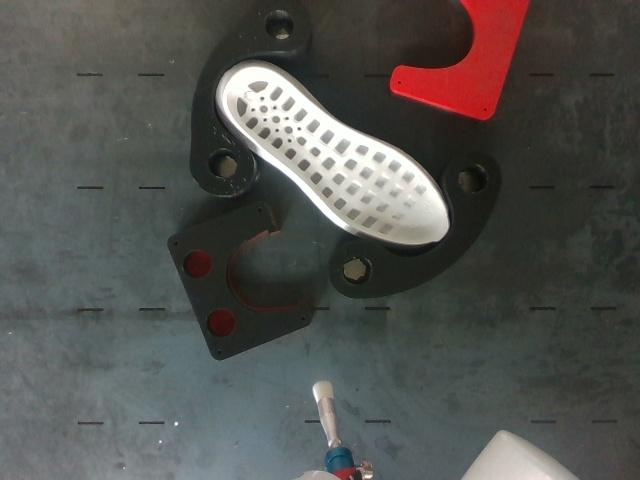shoes: (227, 67, 448, 245)
